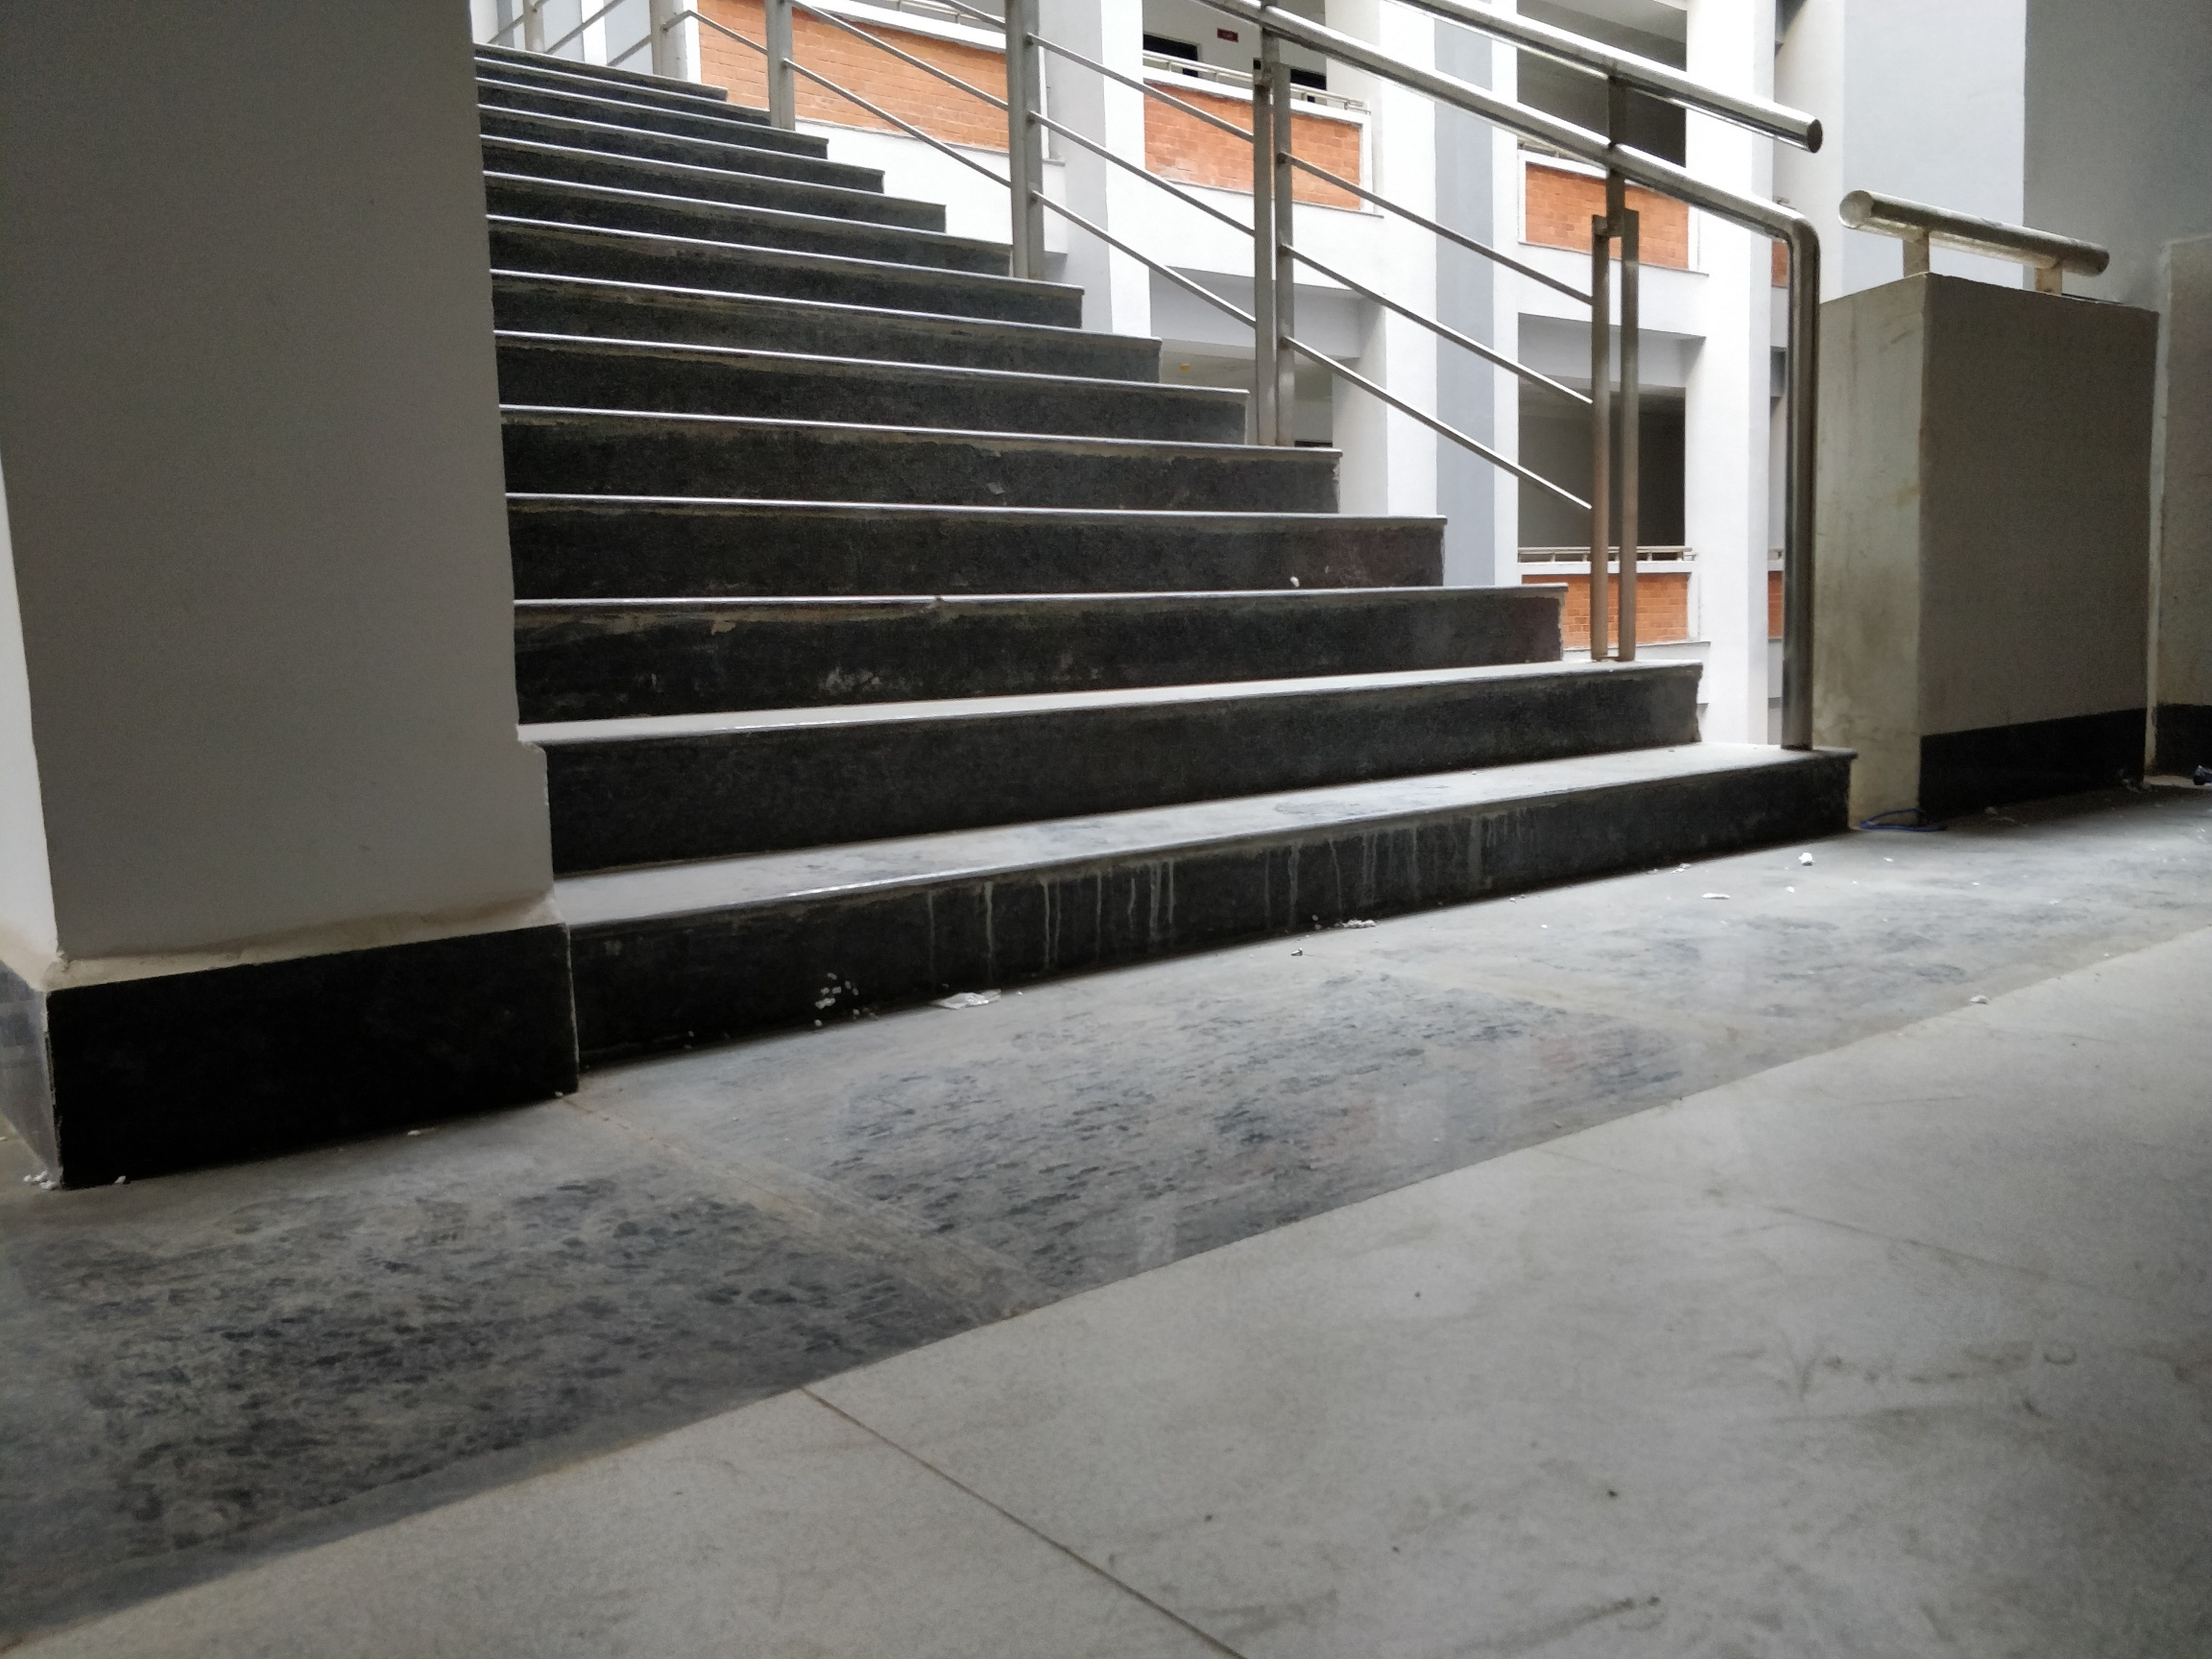stairs_up: (488, 64, 1627, 978)
